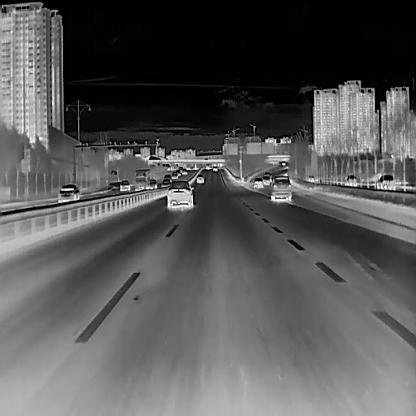car: (166, 180, 194, 207), (271, 175, 292, 200), (57, 184, 79, 202), (134, 168, 150, 190), (376, 174, 395, 189), (344, 174, 357, 185), (253, 176, 263, 187), (120, 180, 130, 190), (262, 175, 271, 185), (161, 178, 171, 187), (150, 179, 157, 189), (197, 174, 204, 183), (164, 173, 171, 180), (171, 171, 177, 178), (176, 169, 181, 176), (182, 168, 187, 174), (213, 165, 217, 171), (282, 162, 286, 165)
